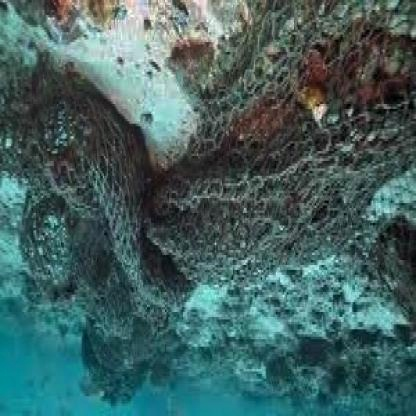net: (35, 47, 402, 305)
